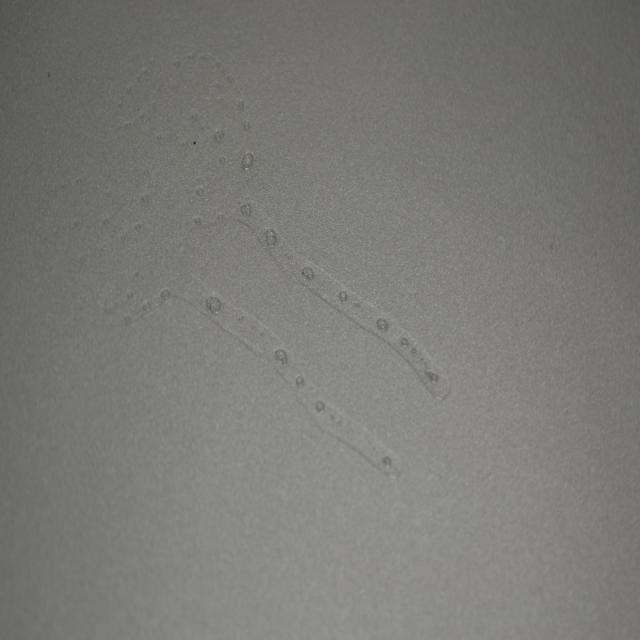runs: (67, 50, 455, 476)
